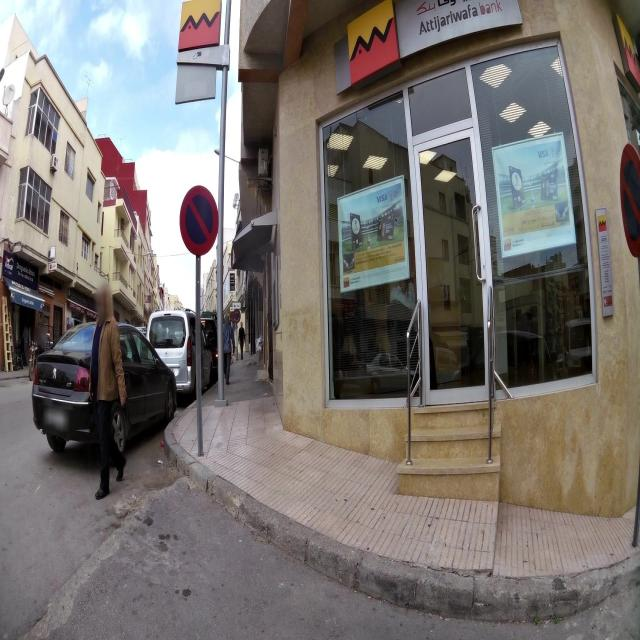forb_stopping: (178, 184, 220, 257)
